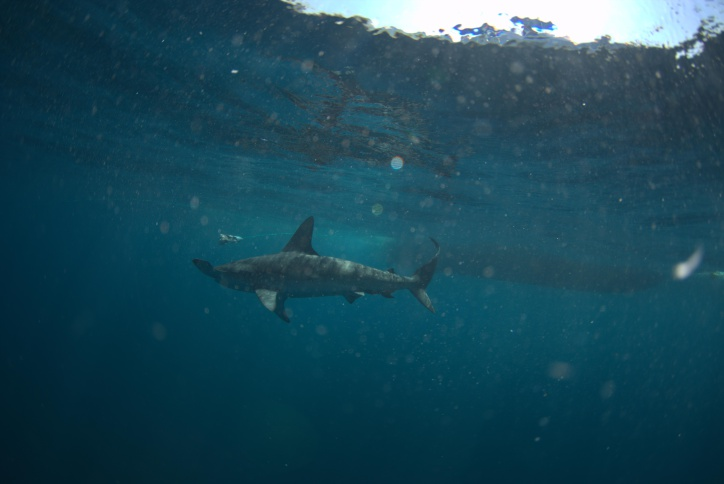Hammer: (169, 198, 487, 348)
